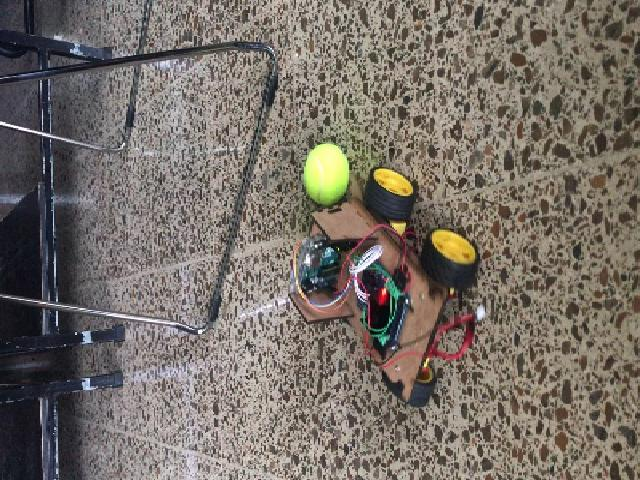Ball: (302, 144, 349, 204)
Robot: (286, 166, 478, 406)
